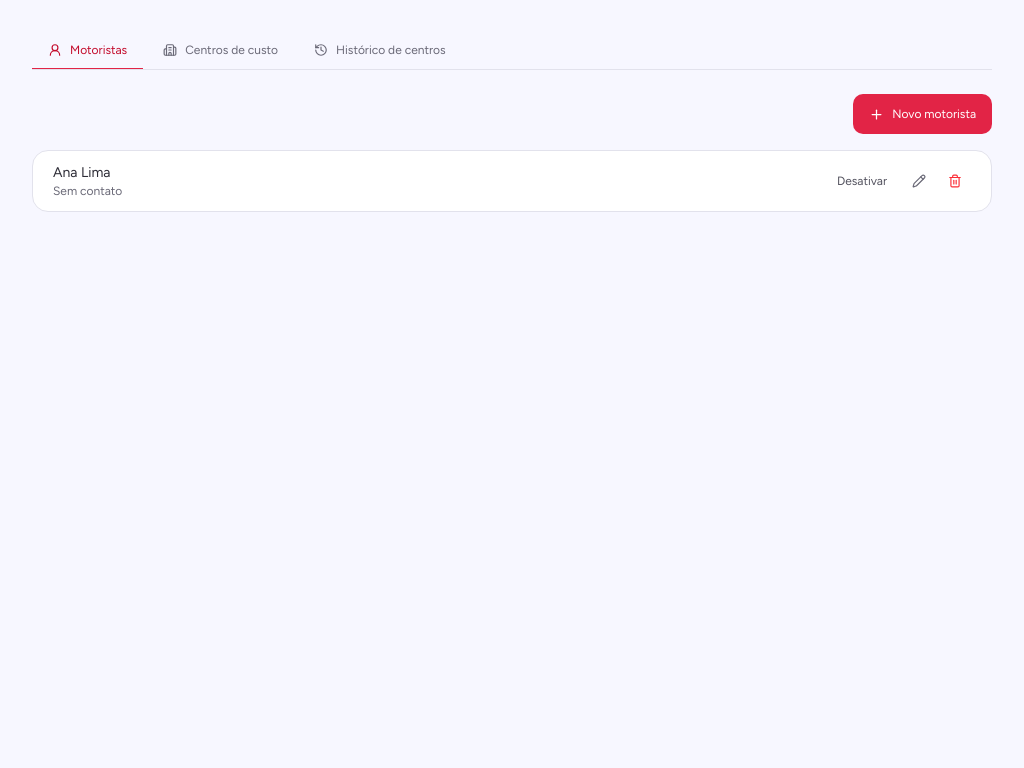
Test: Cadastros: remover com histórico vira desativar › a recusa do servidor explica e oferece Desativar na própria mensagem
This screenshot has width=1024, height=768.
Click the button named "Remover Ana Lima". click: (955, 181)
box: 939,165 -> 971,197
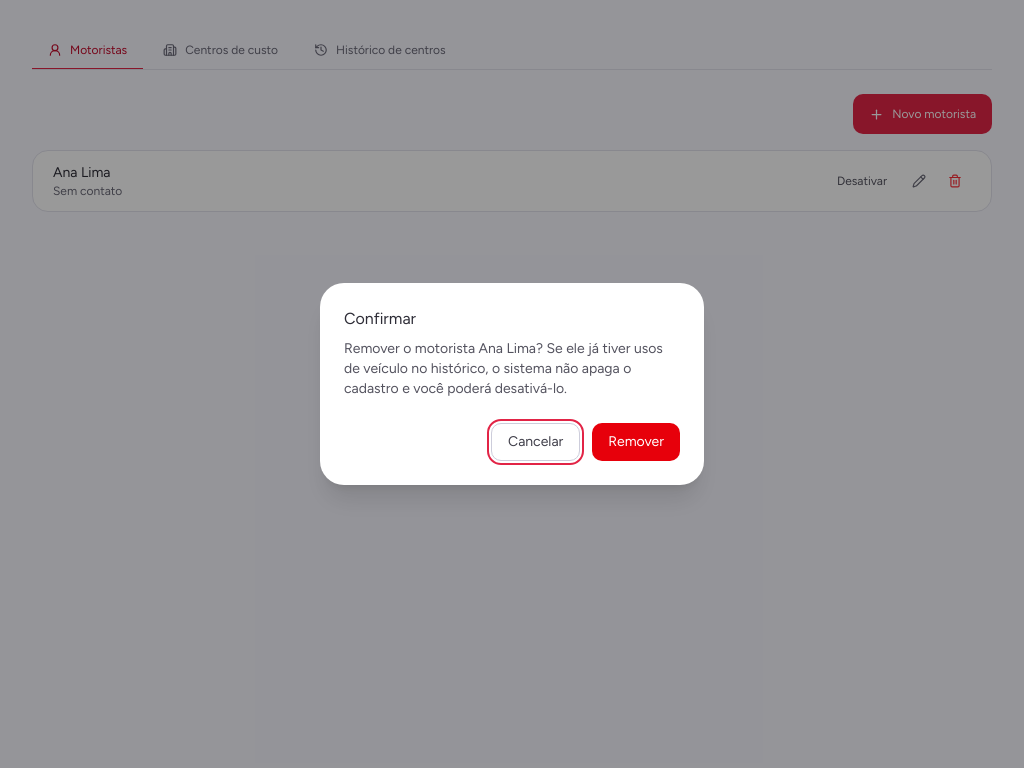
Click the button "Remover". click: (636, 442)
box: 592,423 -> 680,461
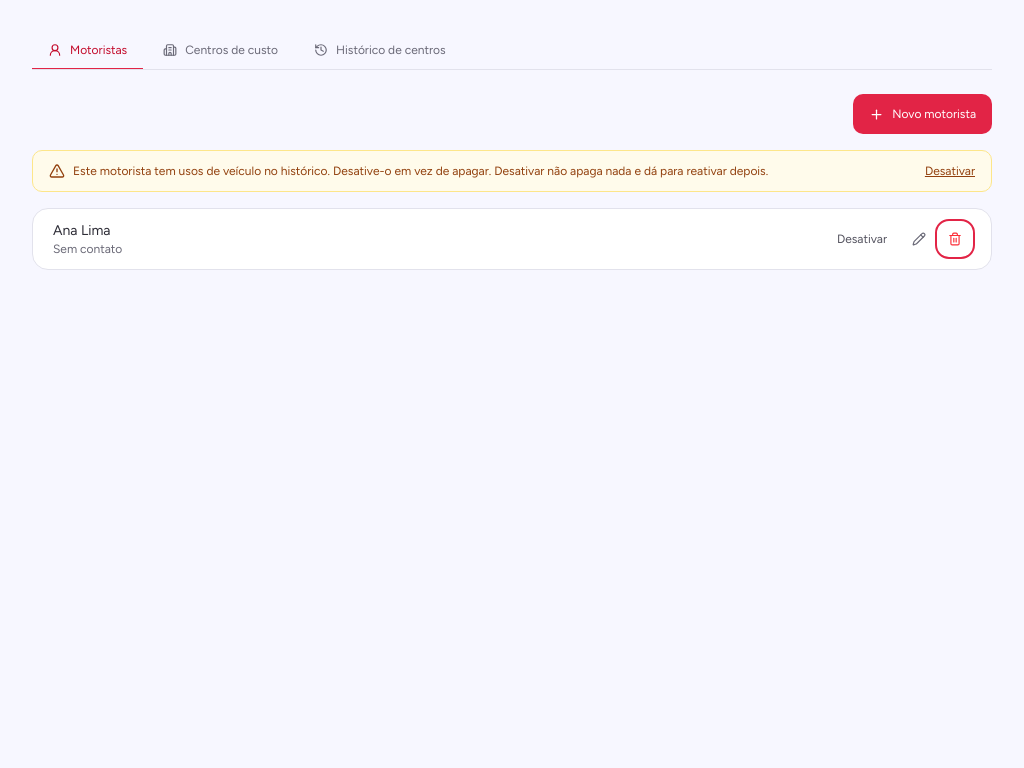
Result: the text "tem usos de veículo no histórico" shows "dá para reativar depois" at 491,164 -> 768,178
Click the button named "Desativar Ana Lima". click: (950, 171)
box: 925,163 -> 975,179
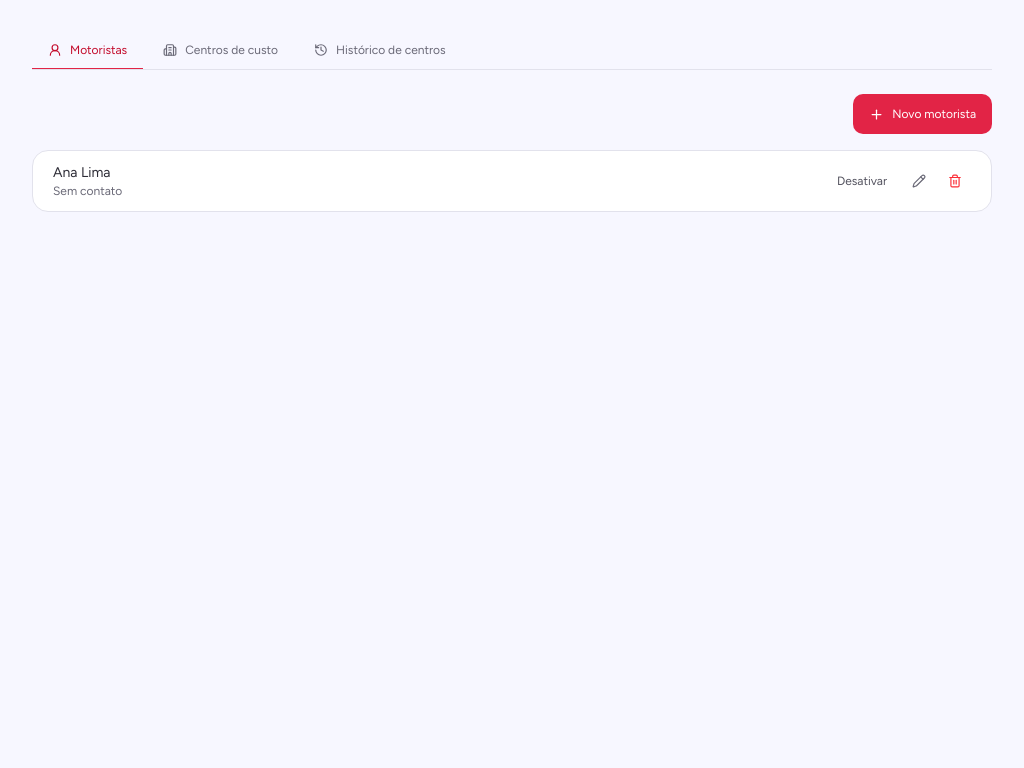
Result: the text "tem usos de veículo no histórico" is gone
